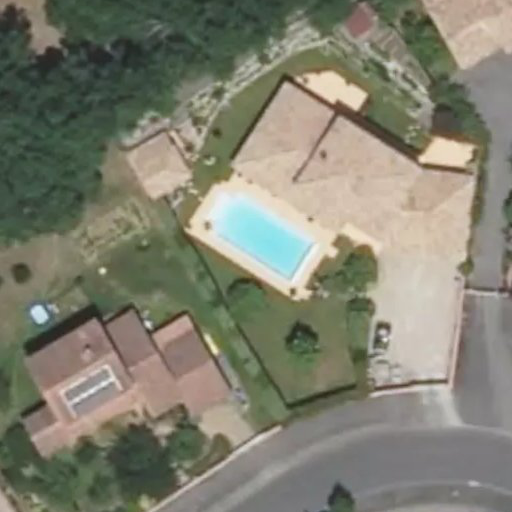pool: (204, 234, 307, 249)
